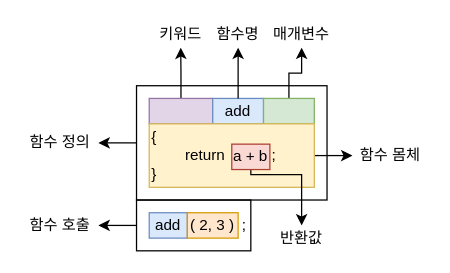
Image size: 450x273. Some labels were removed from this diagram. The centre of each missing label's shape, as x and y in pixels:
( a, b ): pixel 288 110
function: pixel 180 110
